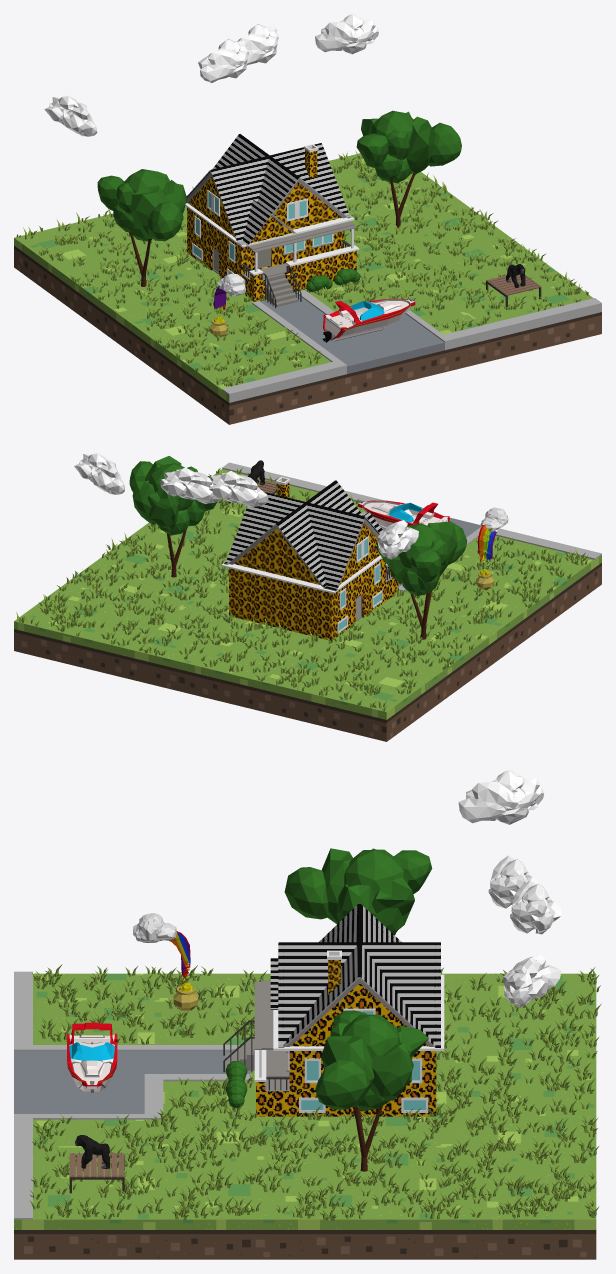
The picture shows the model from 3 angles, top to bottom: view 1: azimuth 30°, elevation 25°; view 2: azimuth 150°, elevation 25°; view 3: azimuth 270°, elevation 25°; orthographic projection. The views are drawn at different scales.
Visible parts, largest first — view 1: Cube.006, Cube.637, Circle.012_Grass_0.192, Cube.007, tree, tree.001, VEHICLES_BOAT, OBJRANDOM_RAINBOW, Cube.009; view 2: Cube.006, Cube.637, Circle.012_Grass_0.192, Cube.007, tree.001, tree, VEHICLES_BOAT, OBJRANDOM_RAINBOW; view 3: Cube.006, Circle.012_Grass_0.192, Cube.637, tree, Cube.007, tree.001, VEHICLES_BOAT, OBJRANDOM_RAINBOW, Cube.009, ANIMAL_GORILA.
Boxes of the visible parts, left/top/right/bottom form: Cube.006: left=14, top=153, right=601, bottom=424; Cube.637: left=185, top=134, right=359, bottom=308; Circle.012_Grass_0.192: left=16, top=150, right=588, bottom=386; Cube.007: left=44, top=14, right=378, bottom=136; tree: left=356, top=110, right=461, bottom=228; tree.001: left=97, top=169, right=186, bottom=286; VEHICLES_BOAT: left=322, top=298, right=415, bottom=342; OBJRANDOM_RAINBOW: left=209, top=273, right=246, bottom=337; Cube.009: left=486, top=274, right=541, bottom=306; Cube.006: left=14, top=462, right=601, bottom=741; Cube.637: left=221, top=477, right=398, bottom=640; Circle.012_Grass_0.192: left=16, top=468, right=588, bottom=711; Cube.007: left=74, top=453, right=418, bottom=559; tree.001: left=375, top=521, right=467, bottom=639; tree: left=129, top=456, right=216, bottom=577; VEHICLES_BOAT: left=358, top=500, right=449, bottom=527; OBJRANDOM_RAINBOW: left=475, top=507, right=508, bottom=590; Cube.006: left=14, top=971, right=596, bottom=1259; Circle.012_Grass_0.192: left=29, top=964, right=601, bottom=1220; Cube.637: left=223, top=903, right=444, bottom=1116; tree: left=315, top=1010, right=428, bottom=1171; Cube.007: left=458, top=770, right=561, bottom=1007; tree.001: left=284, top=848, right=432, bottom=935; VEHICLES_BOAT: left=67, top=1022, right=117, bottom=1092; OBJRANDOM_RAINBOW: left=133, top=913, right=198, bottom=1010; Cube.009: left=69, top=1153, right=124, bottom=1193; ANIMAL_GORILA: left=75, top=1135, right=109, bottom=1168.
Size of the model in its own units: 4071 by 2153 by 4040.
Materials: 37 (4 with a texture image).
